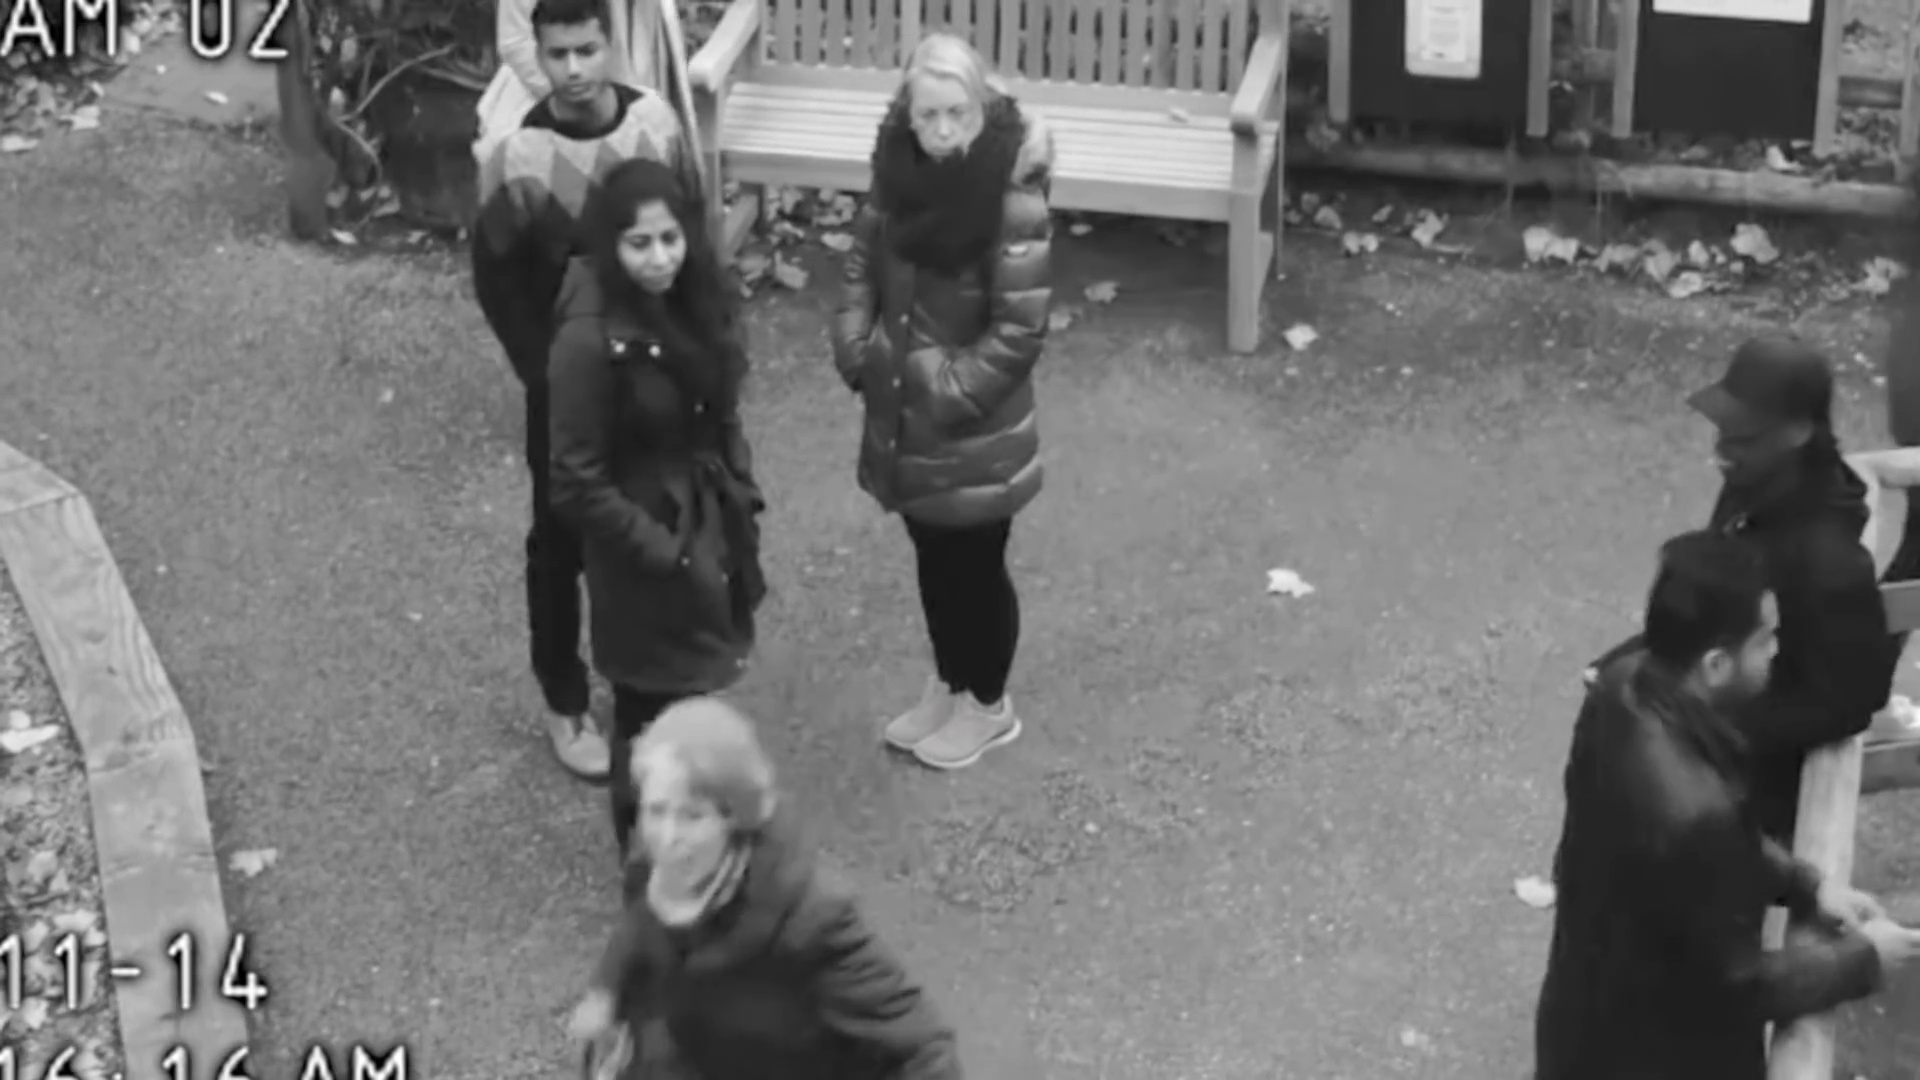face: (606, 751, 738, 901), (600, 210, 688, 301), (905, 62, 984, 153), (531, 15, 610, 100)
